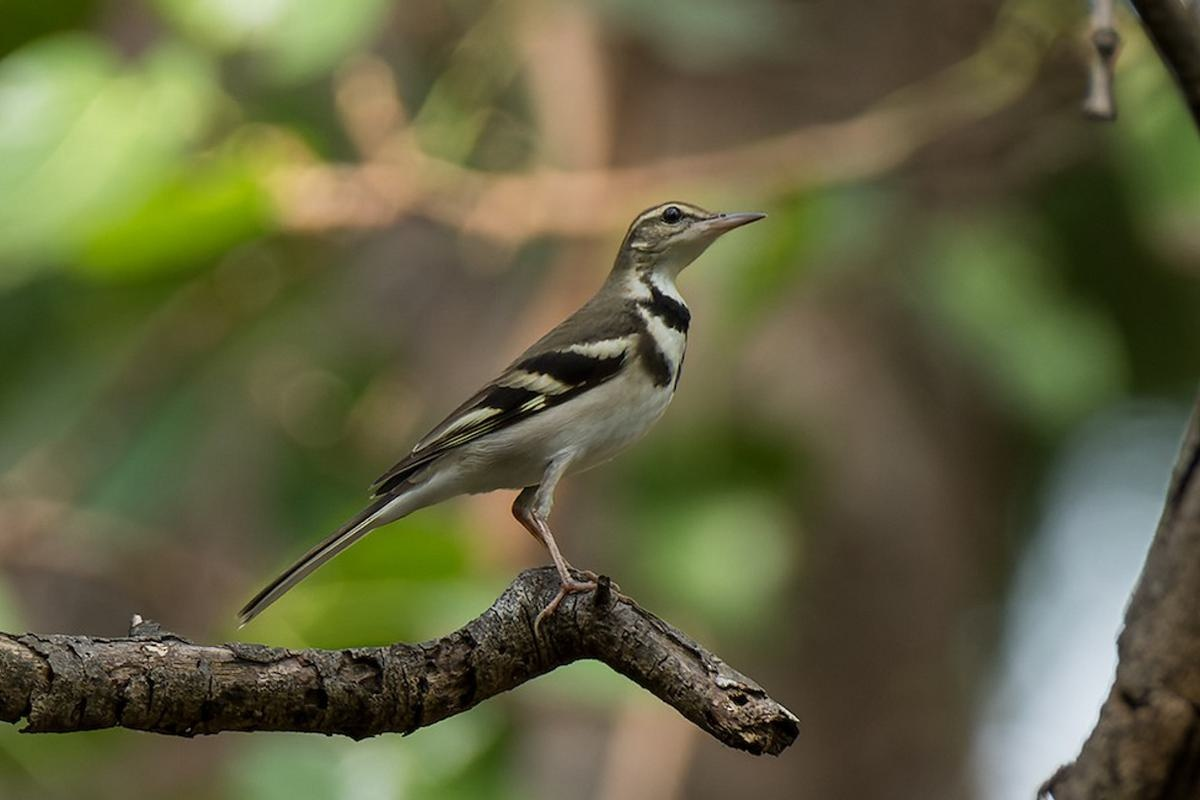wagtail: (314, 163, 771, 571)
